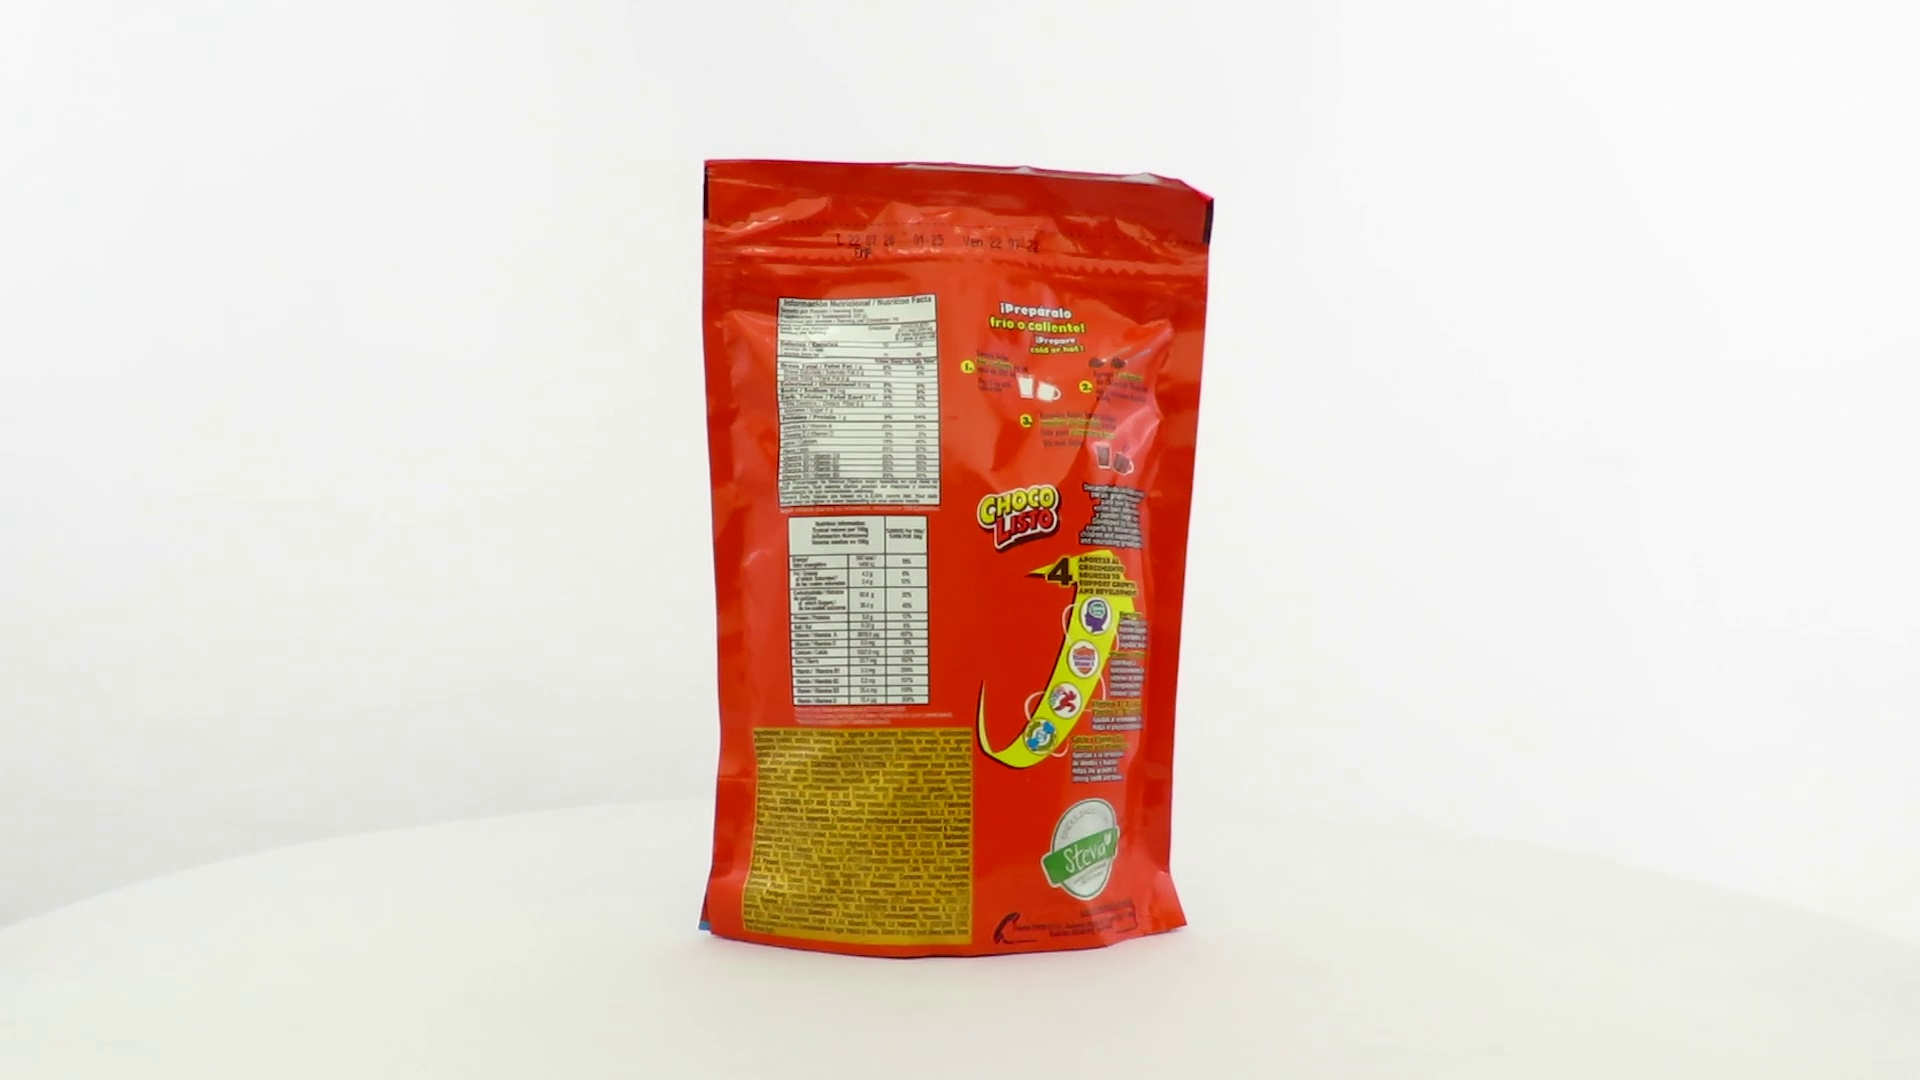COL0170104DYP20000: (694, 154, 1220, 967)
